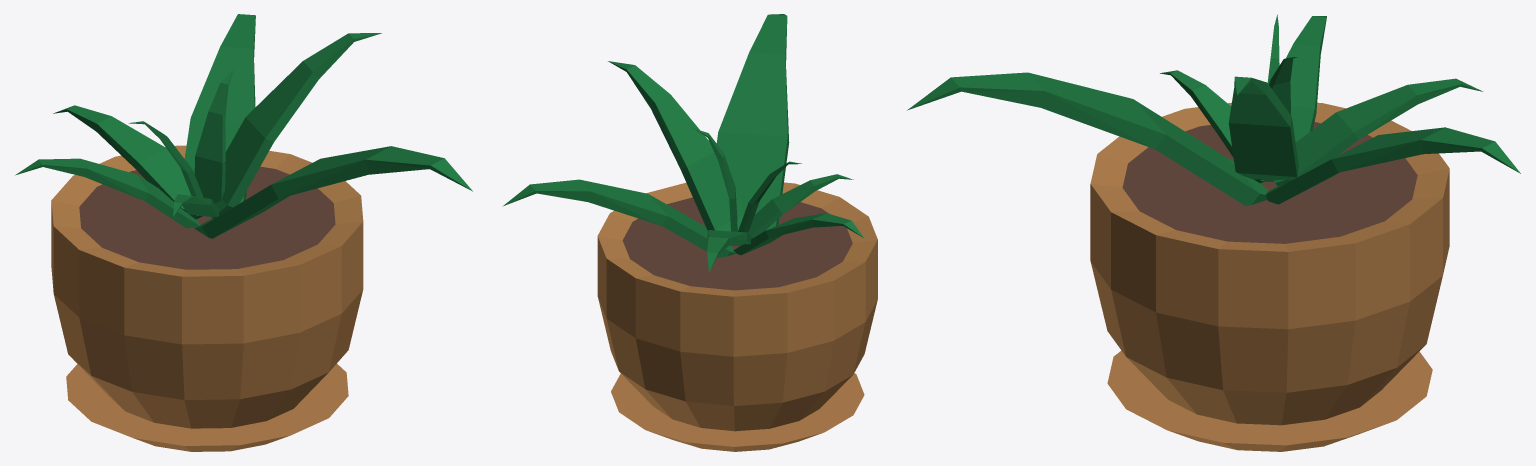
The model's file is Plant01.glb.
3 renders of one model, left to right at view 1: azimuth 30°, elevation 25°; view 2: azimuth 150°, elevation 25°; view 3: azimuth 270°, elevation 25°, orthographic. The views are drawn at different scales.
Parts seen in each view (by area): view 1: Plant01; view 2: Plant01; view 3: Plant01.
Boxes of the visible parts, x1,y1,x2,y2 form: Plant01: (15,14,472,451); Plant01: (502,14,877,451); Plant01: (907,14,1520,451).
Size of the model in its own units: 0.5355 by 0.5449 by 0.7578.
